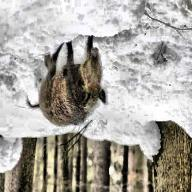boar: (11, 37, 106, 140)
